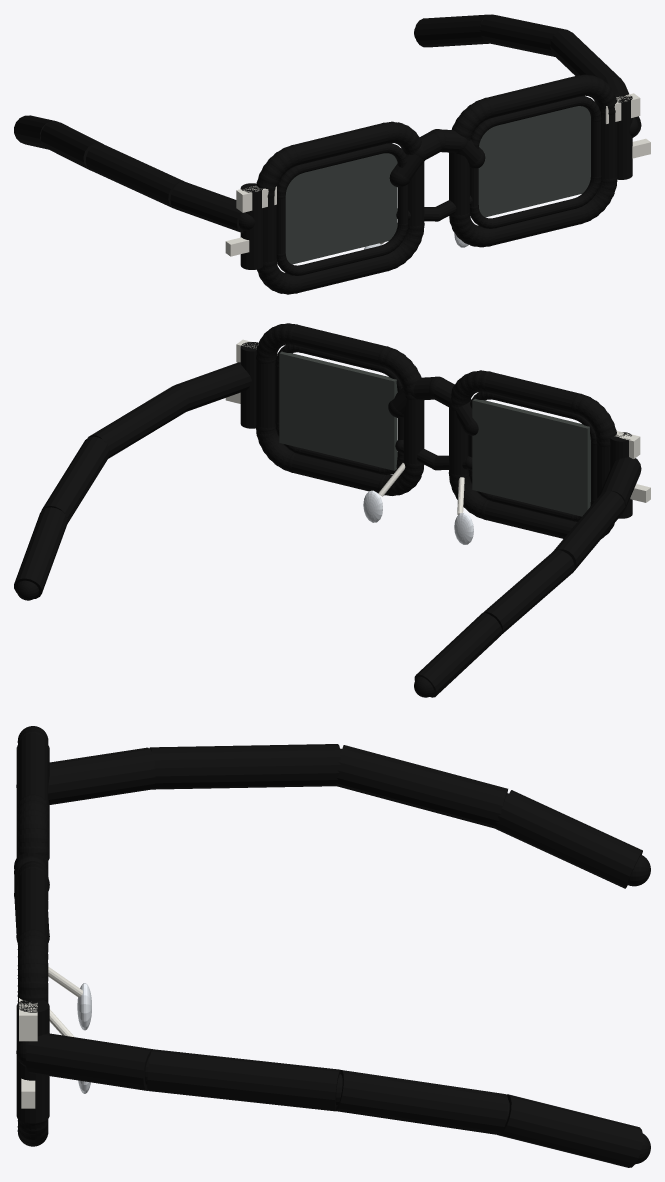
Rendered from ar_tryon_glasses.glb.
3 views of the same model, one above another, from view 1: azimuth 30°, elevation 25°; view 2: azimuth 150°, elevation 25°; view 3: azimuth 270°, elevation 25° (orthographic). The views are drawn at different scales.
Visible parts, largest first — view 1: Glasses_Pivot_NoseBridge; view 2: Glasses_Pivot_NoseBridge; view 3: Glasses_Pivot_NoseBridge.
Part boxes in pixels (box(x1,y1,x2,y2)): Glasses_Pivot_NoseBridge: box(14, 14, 650, 294); Glasses_Pivot_NoseBridge: box(14, 323, 650, 697); Glasses_Pivot_NoseBridge: box(14, 726, 650, 1167).
Bounding box in the file's own units: 0.1729 × 0.0541 × 0.1356.
1 material, 1 textured.
